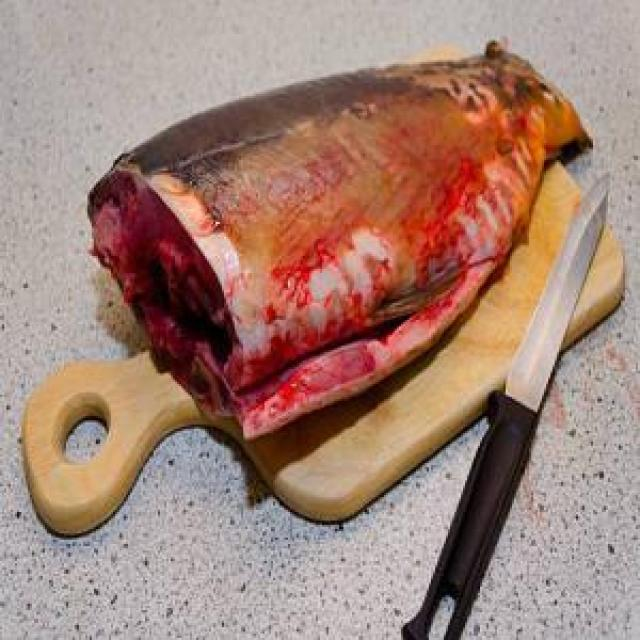knife: (395, 171, 611, 639)
